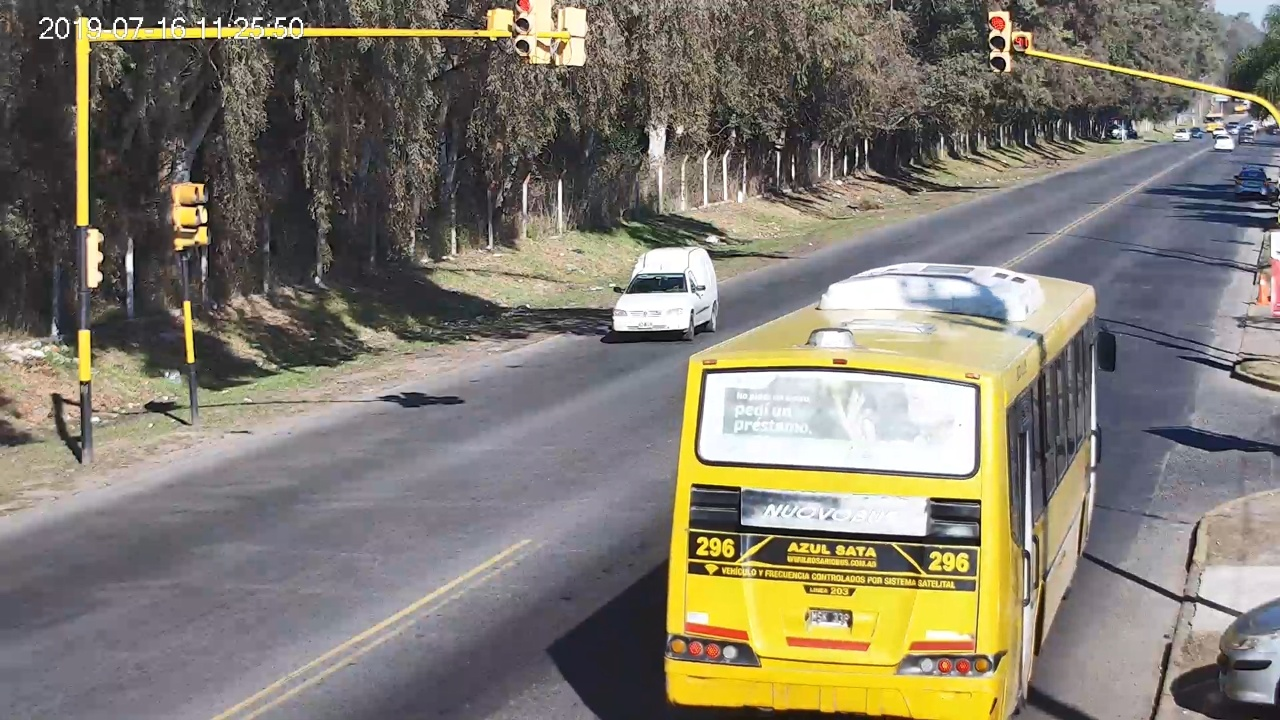bus: (664, 262, 1116, 720)
front car: (611, 246, 718, 340)
traffic light: (989, 12, 1010, 72)
